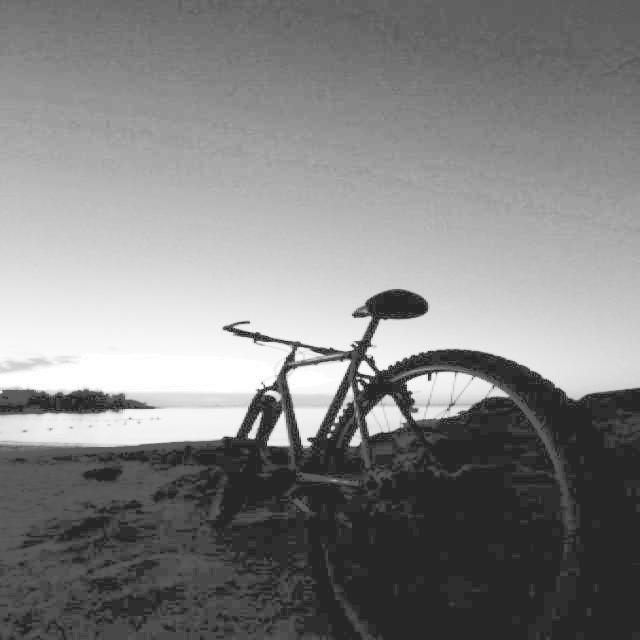Bicycle: (211, 287, 619, 640)
